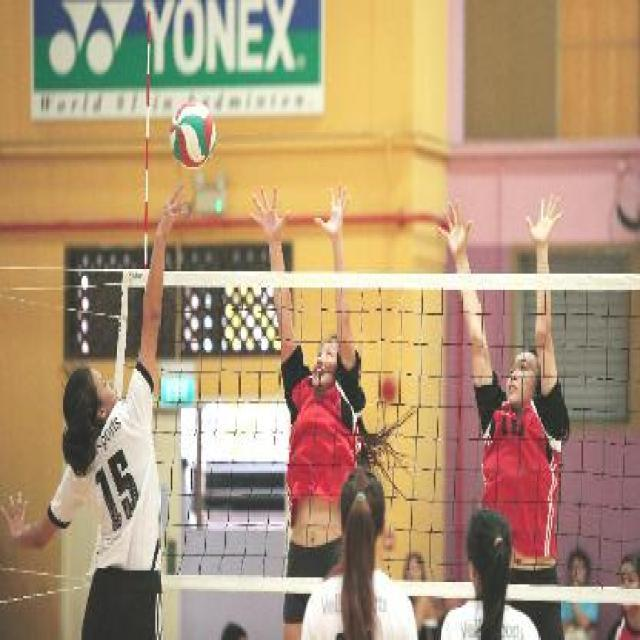volleyball: (170, 99, 217, 169)
